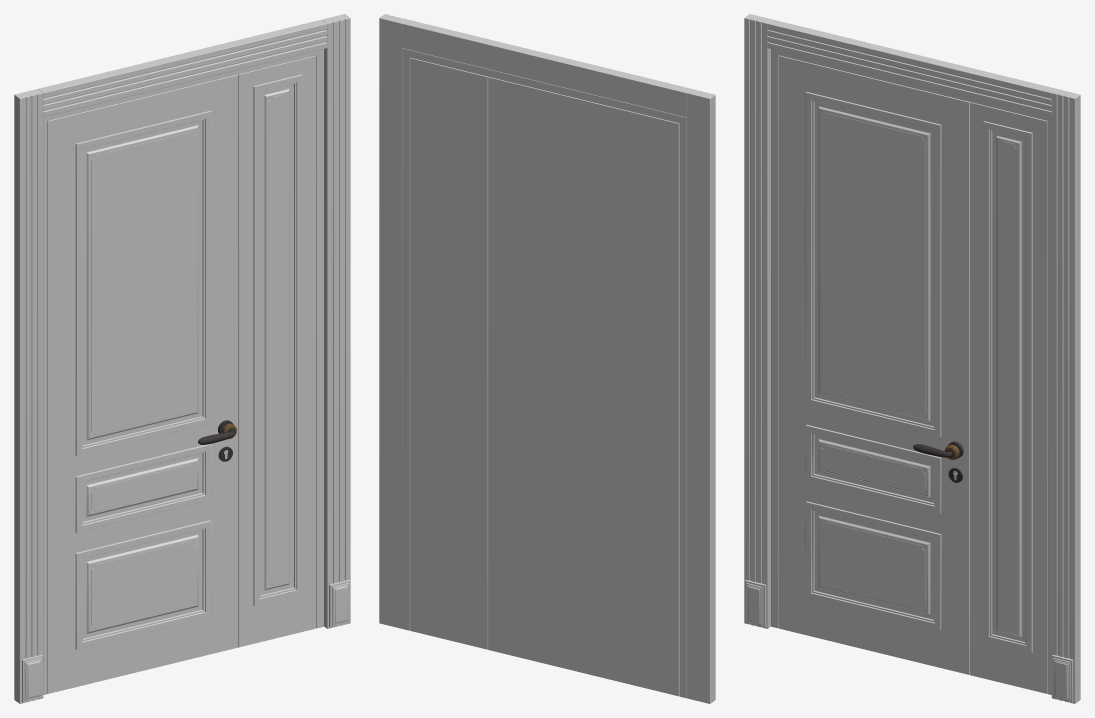
File: Door.glb
The picture shows the model from 3 angles, left to right: view 1: azimuth 30°, elevation 25°; view 2: azimuth 150°, elevation 25°; view 3: azimuth 330°, elevation 25°; orthographic projection.
Visible parts, largest first — view 1: Rectangle001, Rectangle007.001, Rectangle007.002, Circle004; view 2: Rectangle001; view 3: Rectangle001, Rectangle007.001, Rectangle007.002, Circle004.
Boxes of the visible parts, x1=… form: Rectangle001: x1=14, y1=14, x2=350, y2=703; Rectangle007.001: x1=329, y1=580, x2=350, y2=627; Rectangle007.002: x1=22, y1=655, x2=42, y2=702; Circle004: x1=198, y1=420, x2=235, y2=461; Rectangle001: x1=379, y1=14, x2=715, y2=703; Rectangle001: x1=744, y1=14, x2=1080, y2=703; Rectangle007.001: x1=1052, y1=655, x2=1073, y2=702; Rectangle007.002: x1=745, y1=580, x2=766, y2=627; Circle004: x1=913, y1=441, x2=963, y2=482.
Bounding box in the file's own units: 1.42 × 2.48 × 0.0926.
4 materials, 1 textured.
